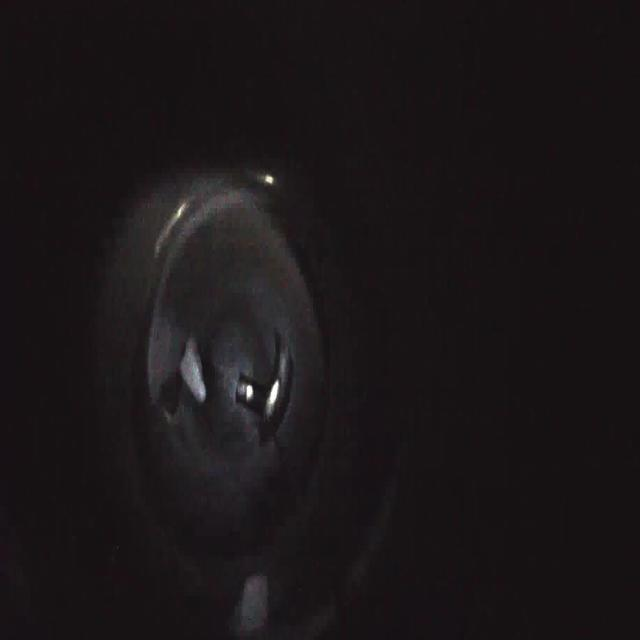impurity: (176, 329, 213, 404)
